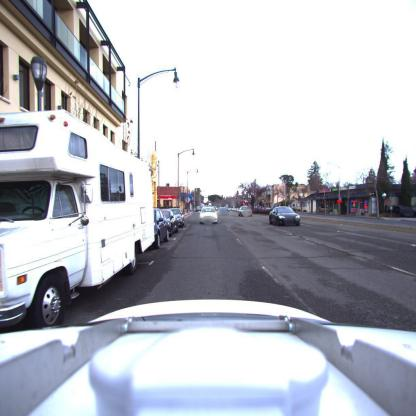car: (269, 206, 301, 226), (164, 209, 185, 232), (155, 210, 170, 242), (200, 206, 219, 224), (390, 205, 415, 217), (239, 206, 252, 218)
truck: (0, 107, 157, 339)
